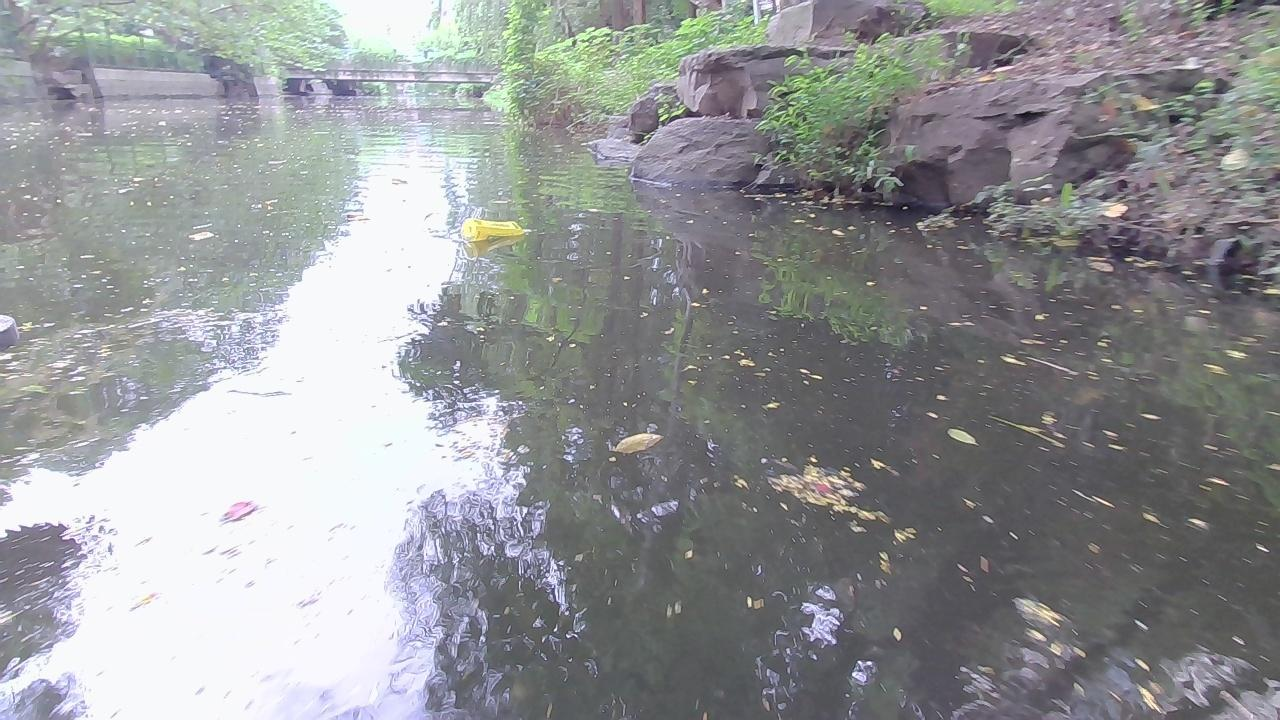bottle: (458, 220, 539, 242)
